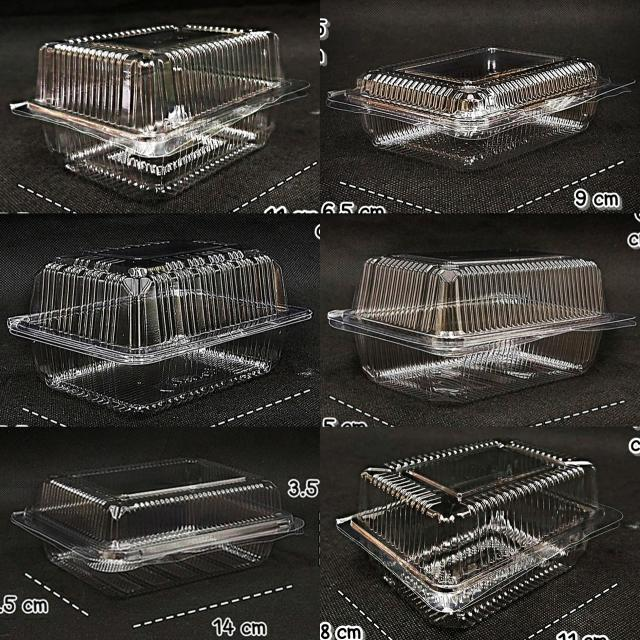Single-Use-Plastic: (337, 440, 622, 627), (11, 25, 308, 201), (8, 241, 311, 411), (328, 251, 635, 402), (11, 459, 304, 597), (327, 46, 633, 170)
